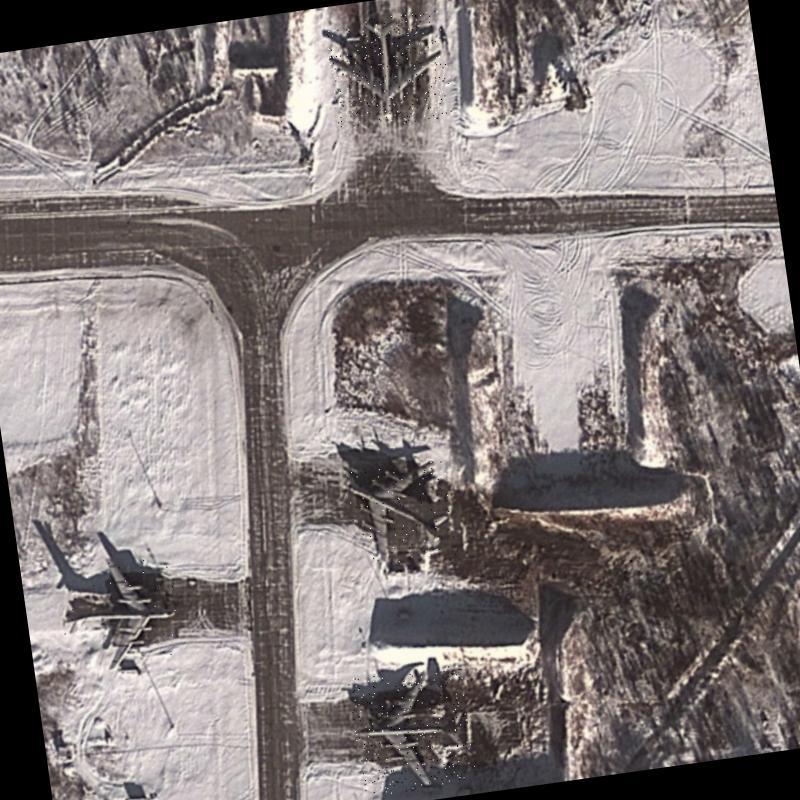A17: (347, 662, 477, 797), (324, 9, 453, 132), (55, 553, 184, 676), (344, 457, 457, 568)
